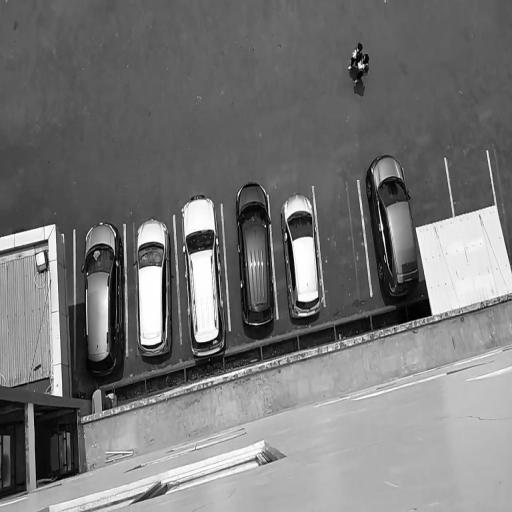Car: (177, 185, 231, 366), (363, 151, 423, 304), (80, 218, 127, 383), (233, 176, 279, 335), (134, 204, 175, 370), (277, 191, 325, 327)
Space Available: (314, 181, 371, 304), (405, 158, 453, 229), (447, 153, 497, 217), (489, 150, 511, 265)
